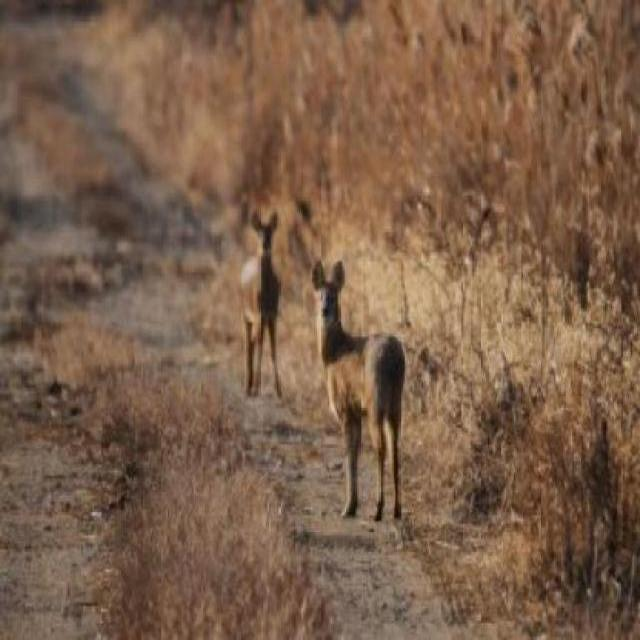deer: (308, 254, 408, 523)
